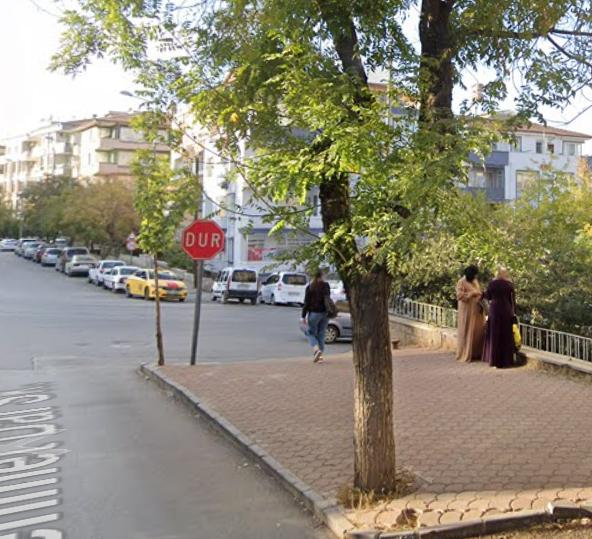stop: (181, 219, 224, 260)
